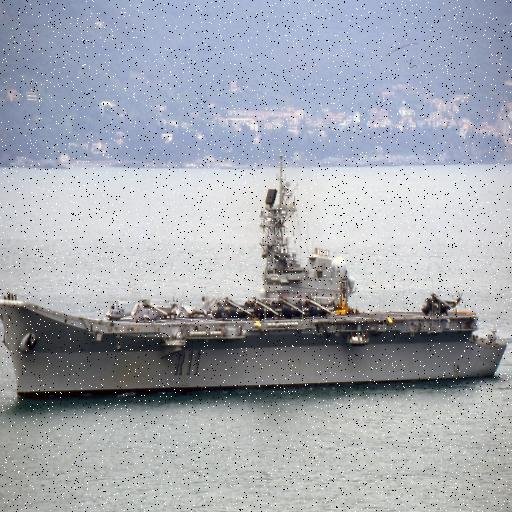Portanaves: (1, 162, 512, 403)
